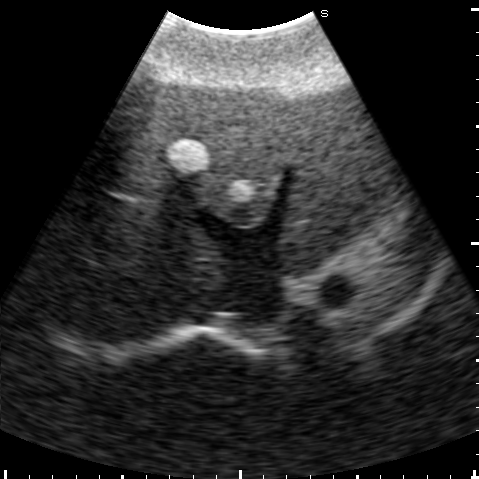S2: (281, 102, 377, 272)
S4: (125, 80, 297, 227)
S7: (39, 255, 167, 343)
S8: (79, 142, 223, 287)
Tumor: (169, 139, 209, 174), (225, 181, 253, 200)
